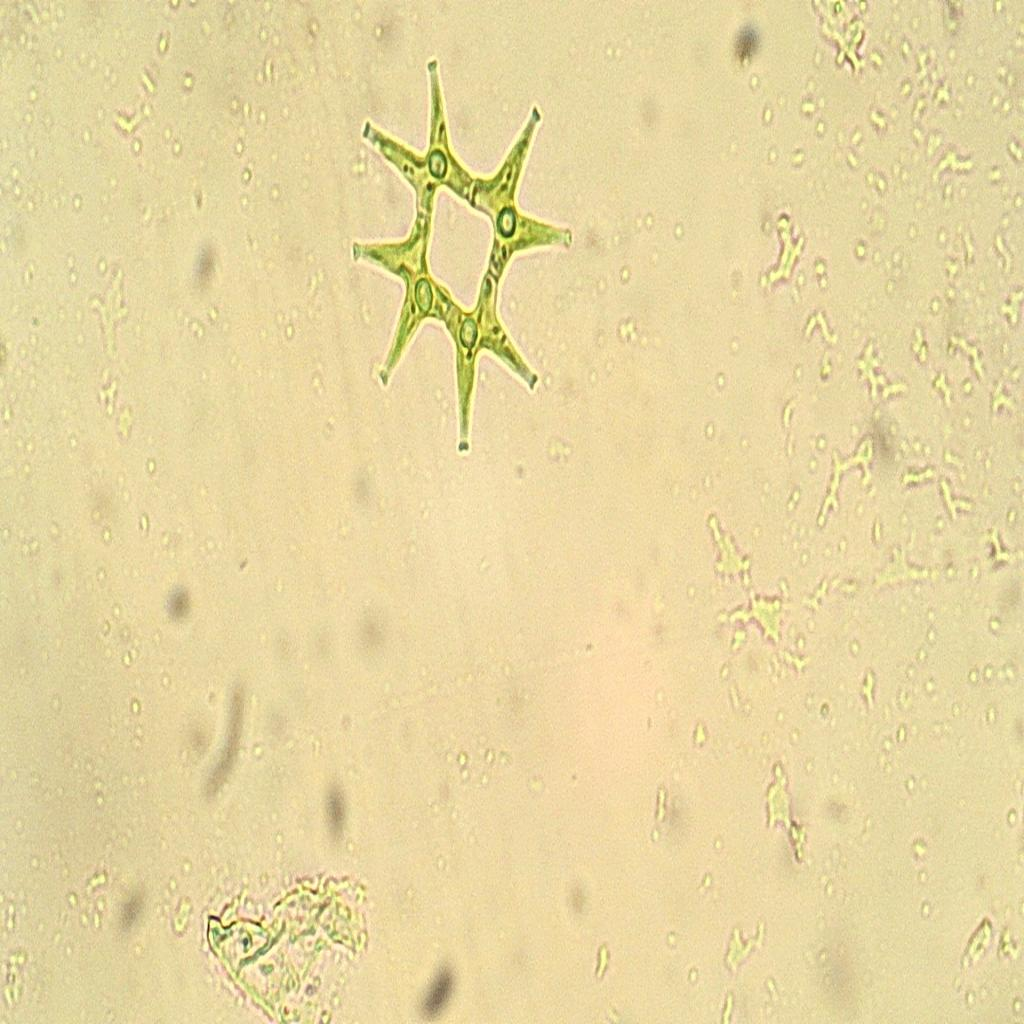Pediastrum_75O: (337, 46, 589, 474)
